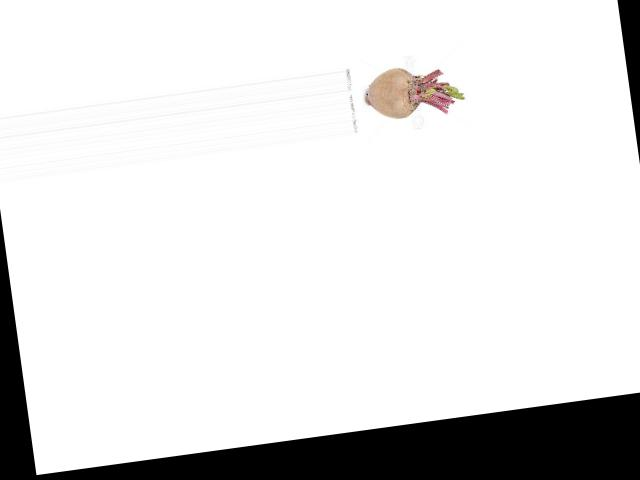beet: (361, 58, 466, 124)
